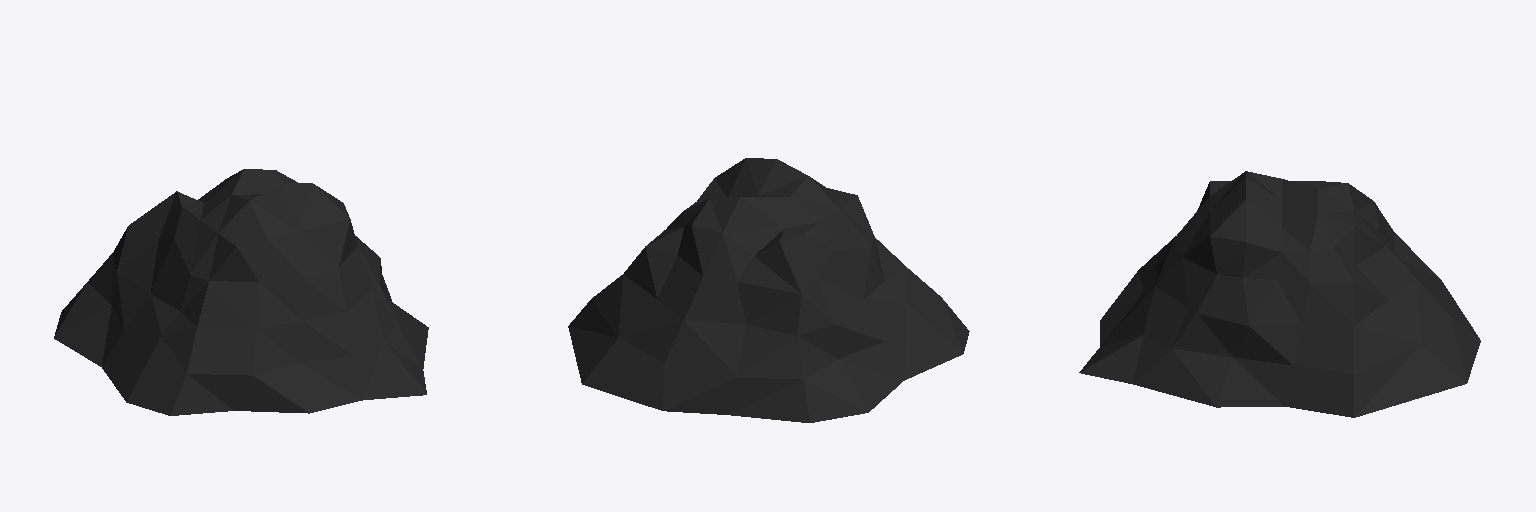
The model's file is rock.obj.
3 renders of one model, left to right at view 1: azimuth 30°, elevation 25°; view 2: azimuth 150°, elevation 25°; view 3: azimuth 270°, elevation 25°, orthographic.
Parts seen in each view (by area): view 1: Cube; view 2: Cube; view 3: Cube.
Part boxes in pixels (x1,y1,x2,y2): Cube: (54,169,428,415); Cube: (568,158,969,422); Cube: (1079,171,1480,417).
Bounding box in the file's own units: 5.2 × 2.52 × 5.57.